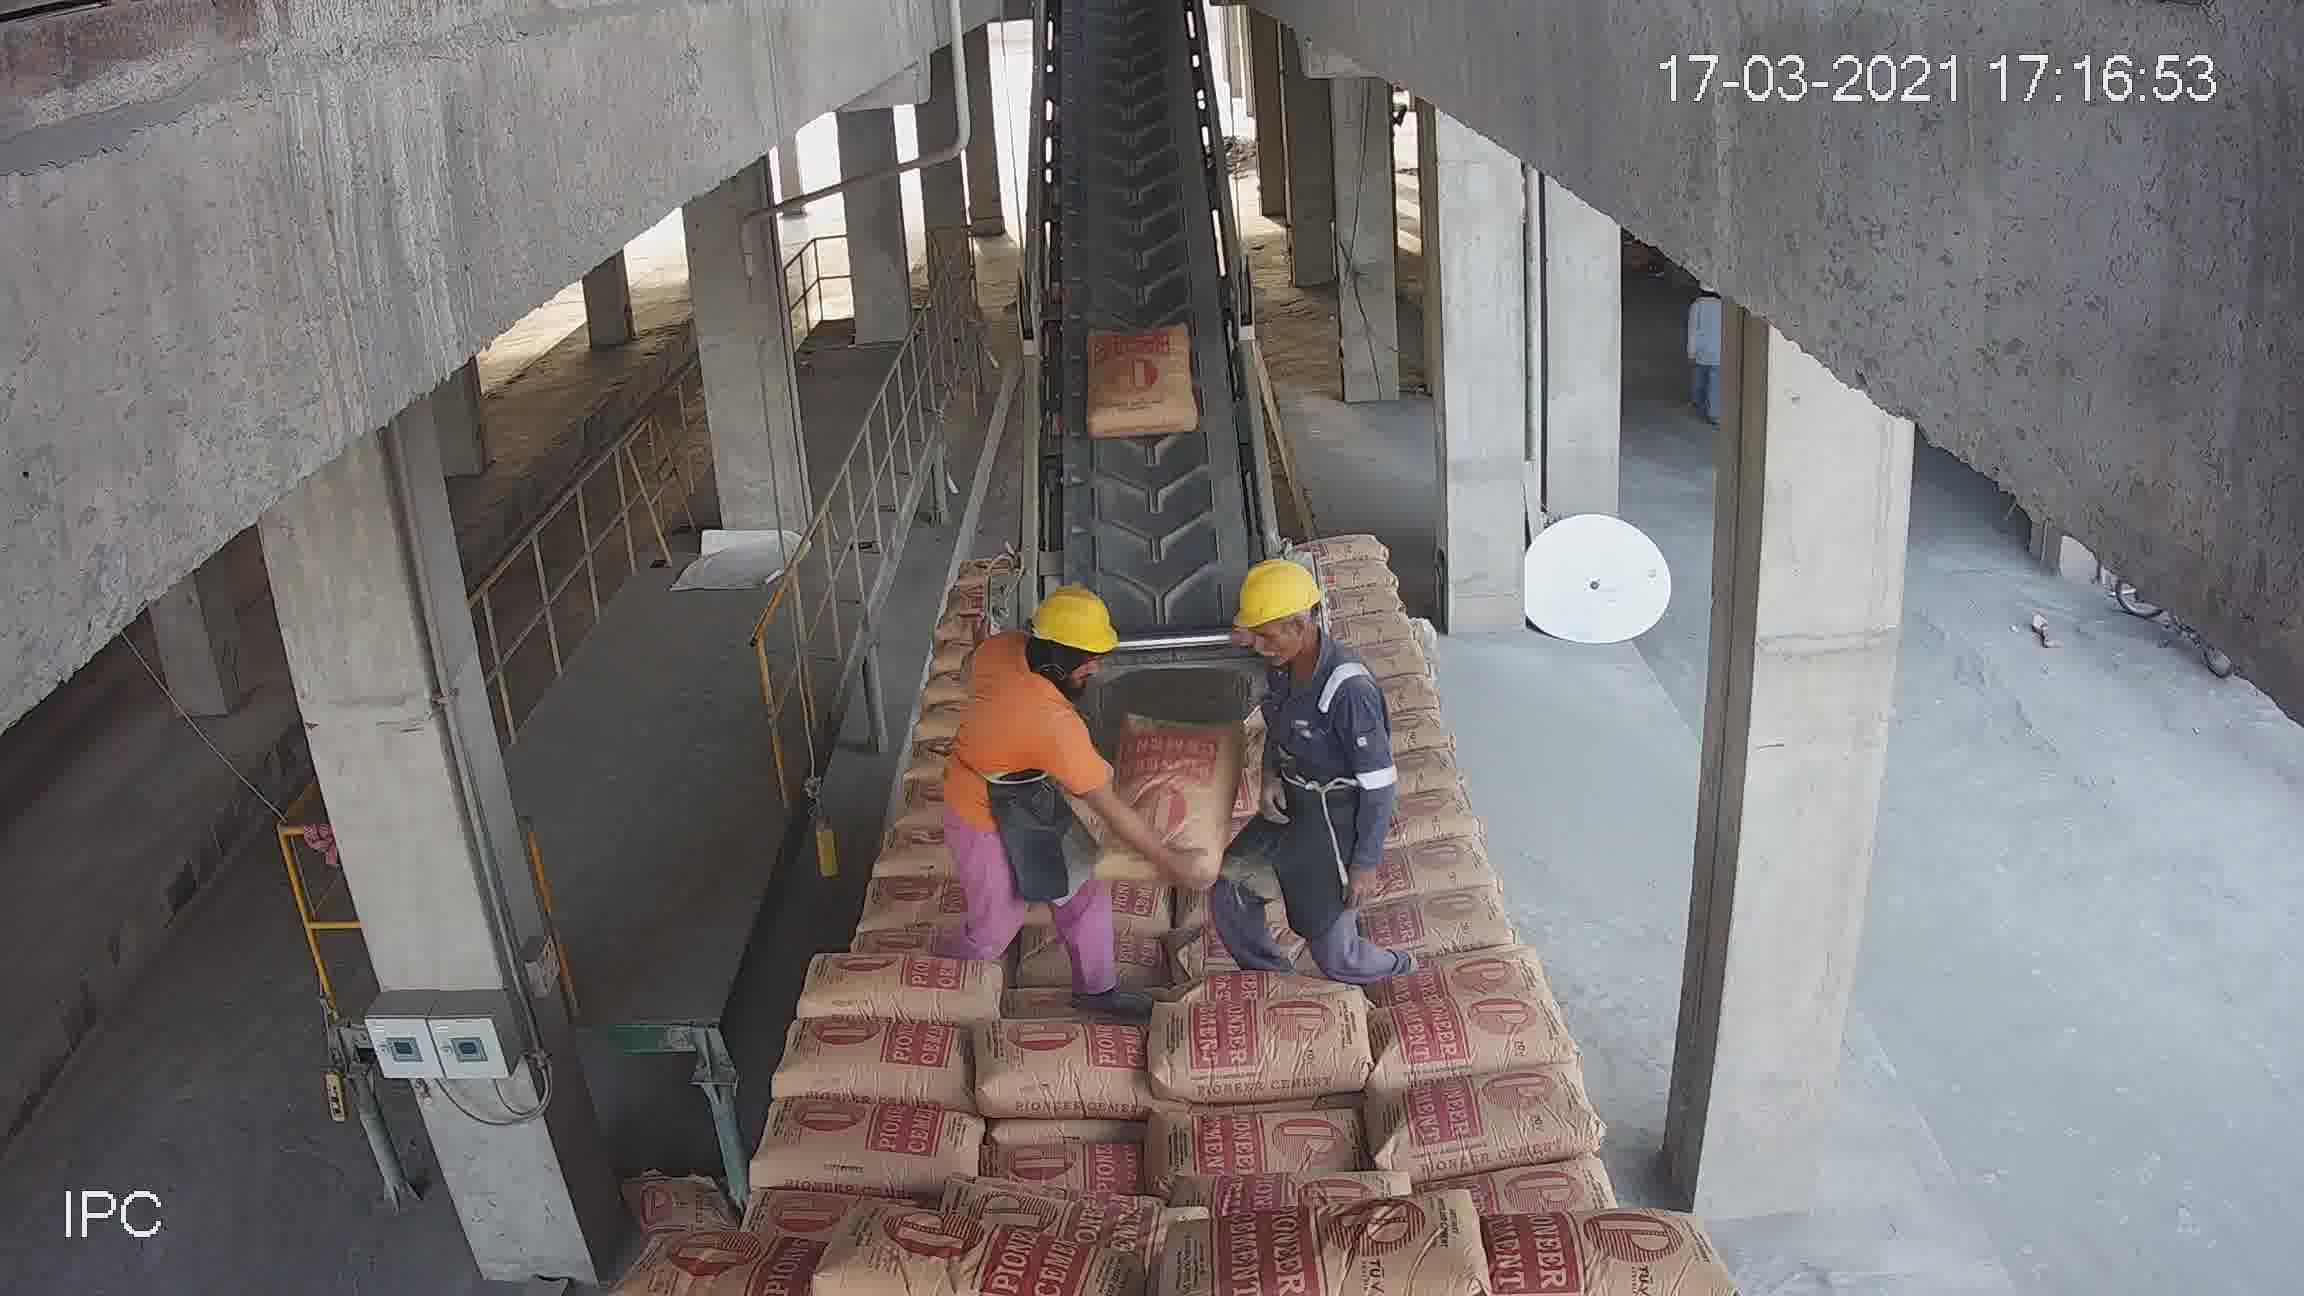bag: (1086, 313, 1195, 432)
bag_h: (1201, 1188, 1510, 1296), (1147, 987, 1385, 1108), (793, 1215, 1133, 1294), (1442, 1203, 1709, 1296), (1377, 1079, 1589, 1193), (748, 1100, 995, 1196), (972, 1011, 1157, 1133), (1366, 1002, 1582, 1093), (1158, 1109, 1364, 1196), (767, 1022, 975, 1106), (635, 1230, 843, 1296), (799, 953, 992, 1022), (1388, 889, 1525, 968), (991, 1141, 1158, 1198), (1372, 961, 1533, 1017), (1380, 836, 1495, 904), (1381, 785, 1486, 851), (853, 866, 957, 930), (1367, 748, 1478, 798), (1369, 669, 1449, 718), (1381, 711, 1457, 761), (1355, 636, 1435, 684), (1317, 559, 1400, 597), (1309, 530, 1388, 559)
bag_v: (1119, 706, 1230, 885)
belt: (1014, 46, 1234, 706)
